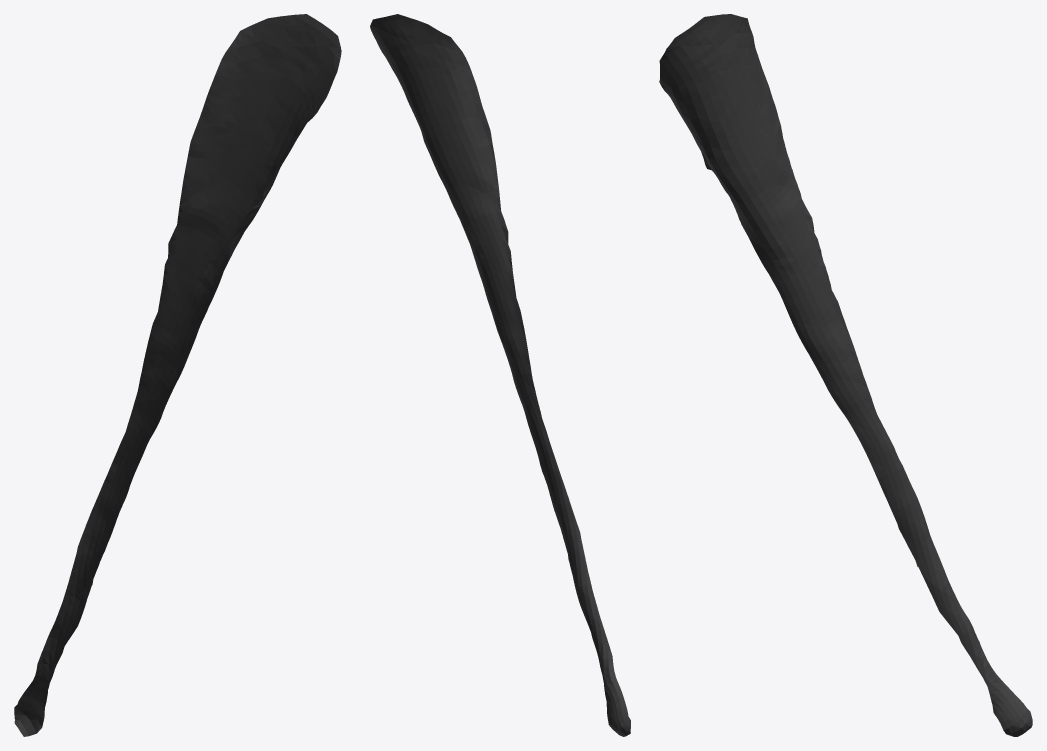
Rendered from eq_dist_limb_Metacarpal_4.glb.
The picture shows the model from 3 angles, left to right: view 1: azimuth 30°, elevation 25°; view 2: azimuth 210°, elevation 25°; view 3: azimuth 270°, elevation 25°; orthographic projection. The views are drawn at different scales.
Visible parts, largest first — view 1: eq_dist_limb_Metacarpal_4; view 2: eq_dist_limb_Metacarpal_4; view 3: eq_dist_limb_Metacarpal_4.
Part boxes in pixels (<box>): eq_dist_limb_Metacarpal_4: <box>14,14,341,736</box>; eq_dist_limb_Metacarpal_4: <box>370,14,630,736</box>; eq_dist_limb_Metacarpal_4: <box>659,14,1032,736</box>.
Bounding box in the file's own units: 0.00454 × 0.0256 × 0.0112.
1 material, 1 textured.
